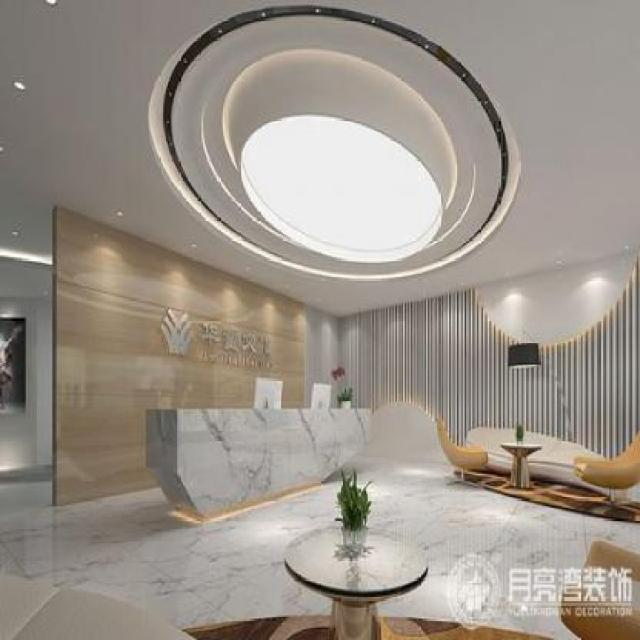frontdesk: (136, 384, 376, 528)
